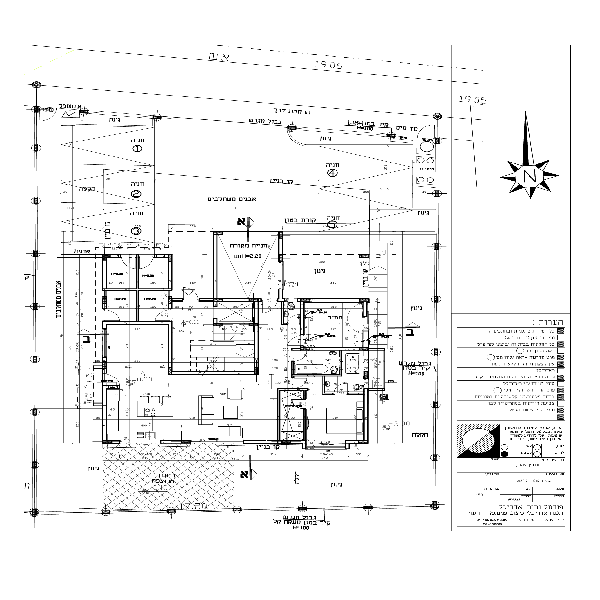room: (170, 300, 261, 378), (276, 385, 366, 446), (299, 298, 374, 353), (100, 254, 175, 295)
